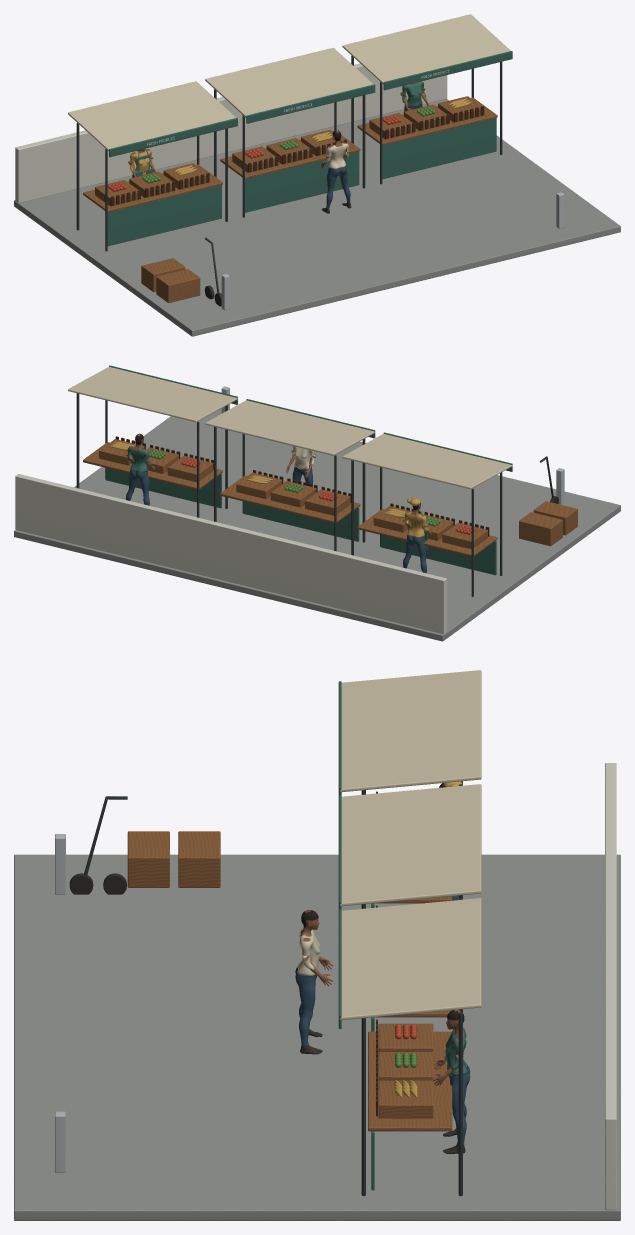
Rendered from lagos-produce-market.glb.
3 renders of one model, top to bottom at view 1: azimuth 30°, elevation 25°; view 2: azimuth 150°, elevation 25°; view 3: azimuth 270°, elevation 25°, orthographic. The views are drawn at different scales.
Parts seen in each view (by area): view 1: Paved market plot, Rear boundary, Pitched canopy.001, Pitched canopy.002, Pitched canopy, Stall front.002, Stall front, Stall front.001, Stacked supply crate, Canopy fascia.001, Canopy fascia.002, Canopy fascia (+15 smaller); view 2: Paved market plot, Rear boundary, Pitched canopy.001, Pitched canopy, Pitched canopy.002, Stall front.001, Stall front, Stall front.002, Market stall counter.001, Stacked supply crate.001, Market stall counter, Market stall counter.002 (+15 smaller); view 3: Paved market plot, Pitched canopy, Pitched canopy.001, Pitched canopy.002, Rear boundary, Market stall counter.002, Stacked supply crate, Stacked supply crate.001, Produce crate.008, Produce crate.006, Produce crate.007, Customer / Trousers (+3 smaller).
Part boxes in pixels (<box>): Paved market plot: <box>14,99,620,336</box>; Rear boundary: <box>15,63,447,203</box>; Pitched canopy.001: <box>205,47,373,117</box>; Pitched canopy.002: <box>342,14,510,84</box>; Pitched canopy: <box>68,81,235,151</box>; Stall front.002: <box>382,118,496,179</box>; Stall front: <box>107,185,221,246</box>; Stall front.001: <box>245,151,359,212</box>; Stacked supply crate: <box>156,269,200,302</box>; Canopy fascia.001: <box>246,84,375,123</box>; Canopy fascia.002: <box>383,51,512,90</box>; Canopy fascia: <box>109,118,237,157</box>; Paved market plot: <box>14,408,620,641</box>; Rear boundary: <box>15,474,447,634</box>; Pitched canopy.001: <box>205,400,375,455</box>; Pitched canopy: <box>342,433,512,489</box>; Pitched canopy.002: <box>68,366,237,422</box>; Stall front.001: <box>243,501,359,541</box>; Stall front: <box>380,535,496,575</box>; Stall front.002: <box>105,468,221,508</box>; Market stall counter.001: <box>220,475,360,523</box>; Stacked supply crate.001: <box>519,512,562,546</box>; Market stall counter: <box>357,509,497,556</box>; Market stall counter.002: <box>83,442,222,489</box>; Paved market plot: <box>14,854,620,1220</box>; Pitched canopy: <box>340,670,481,792</box>; Pitched canopy.001: <box>340,784,481,906</box>; Pitched canopy.002: <box>340,898,481,1020</box>; Rear boundary: <box>605,763,616,1210</box>; Market stall counter.002: <box>368,1031,452,1131</box>; Stacked supply crate: <box>127,831,169,887</box>; Stacked supply crate.001: <box>178,831,220,887</box>; Produce crate.008: <box>378,1080,433,1118</box>; Produce crate.006: <box>378,1023,433,1051</box>; Produce crate.007: <box>378,1052,433,1080</box>; Customer / Trousers: <box>295,966,316,1045</box>.
Size of the model in its own units: 10 by 2.7 by 7.2.
17 materials, 4 textured.
